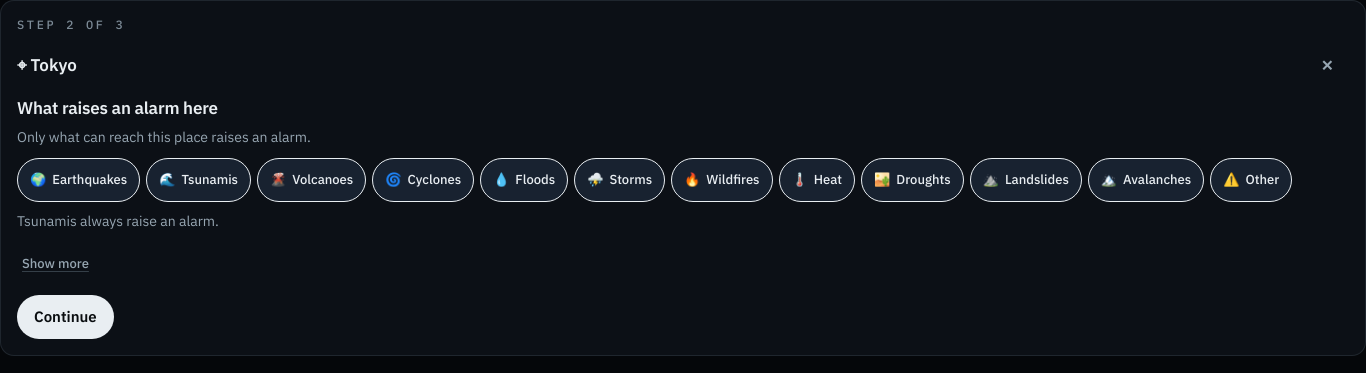
Test: step 3: notifications, the reason before the prompt › is skipped when the browser already decided
Click the button "Continue" at coordinates (65, 317), box [17,295,114,339]
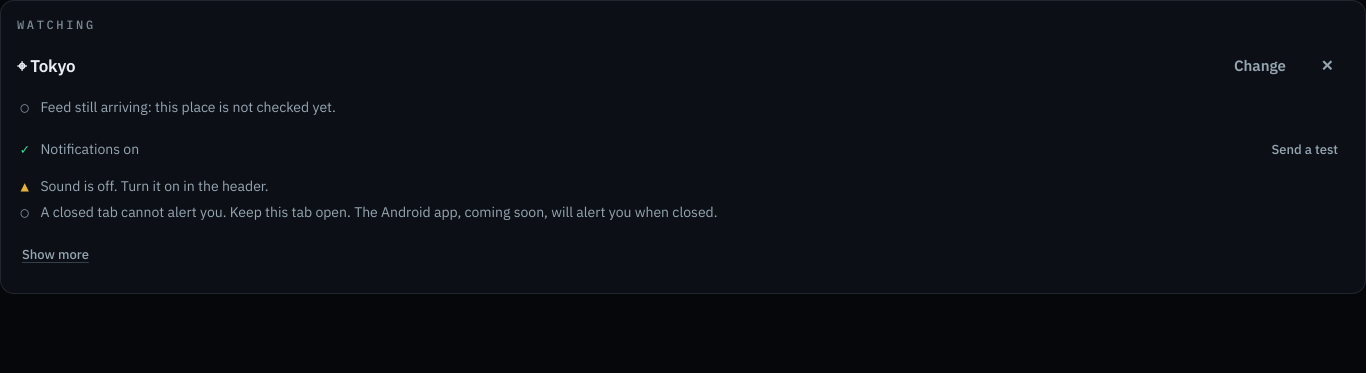
Check: the text "Notifications on" is shown, box [40,140,139,158]
